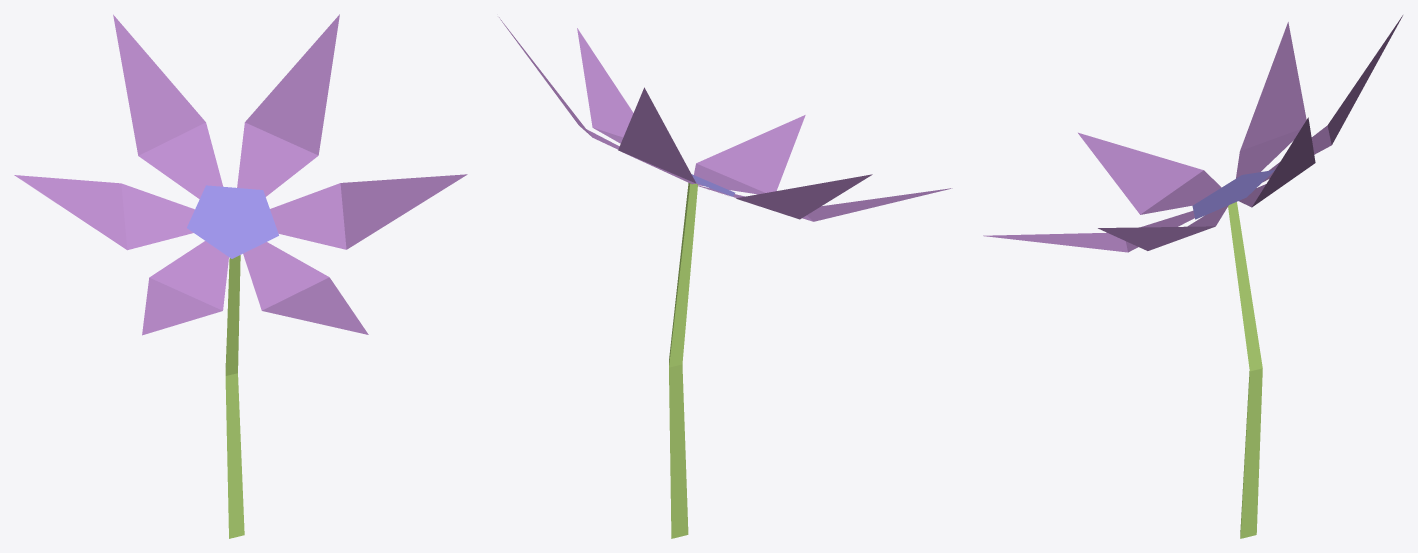
File: Flower_b_TwoS_03.fbx
The picture shows the model from 3 angles, left to right: view 1: azimuth 30°, elevation 25°; view 2: azimuth 150°, elevation 25°; view 3: azimuth 270°, elevation 25°; orthographic projection. The views are drawn at different scales.
Visible parts, largest first — view 1: Flower_b_TwoS_03; view 2: Flower_b_TwoS_03; view 3: Flower_b_TwoS_03.
Part boxes in pixels (<box>): Flower_b_TwoS_03: <box>14,14,467,538</box>; Flower_b_TwoS_03: <box>499,17,952,538</box>; Flower_b_TwoS_03: <box>983,15,1402,538</box>.
Bounding box in the file's own units: 36.21 × 45.49 × 34.93.
